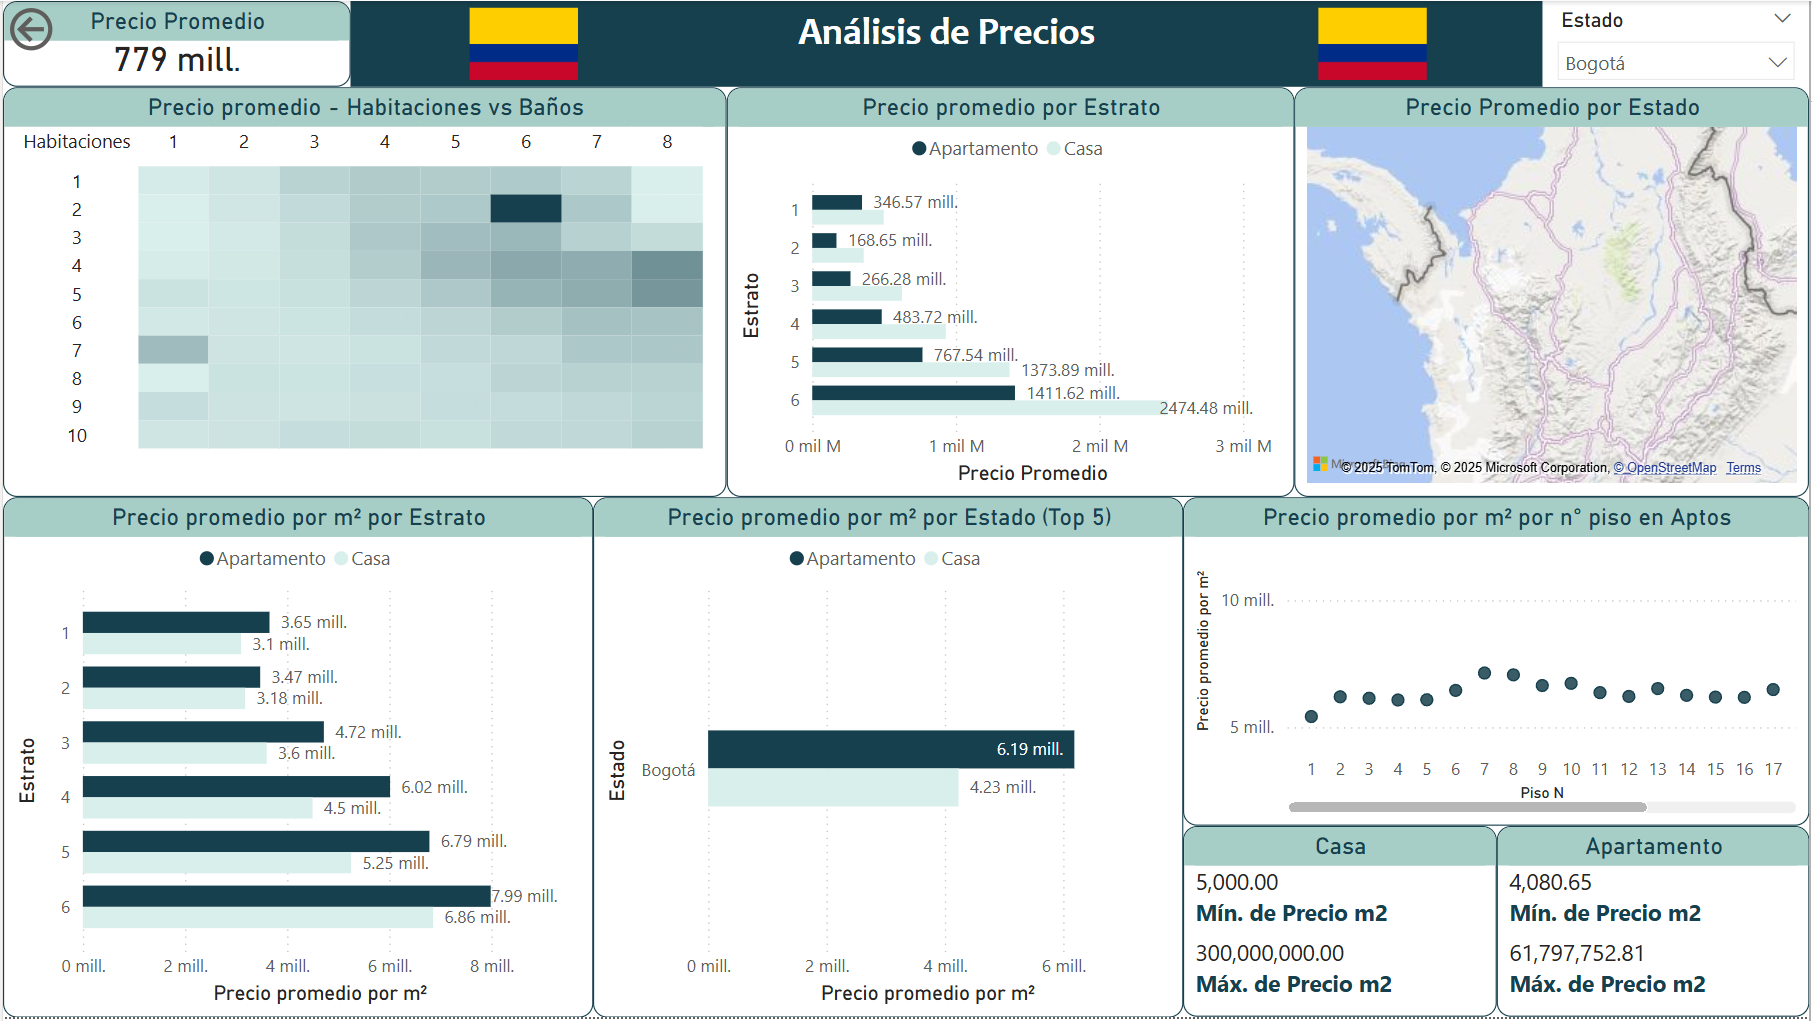

The dashboard page shown, as its layout file describes it:
{"tool":"powerbi","page":{"name":"Análisis de Precios","canvas":[1280,720],"ordinal":1},"visuals":[{"type":"slicer","fields":{"Values":["Props.Estado"]},"box":[1091.5,0,188.7,61.1],"z":0},{"type":"card","title":"Precio Promedio","fields":{"Values":["Avg(Props.Precio)"]},"box":[0,0,246.3,61.1],"z":1000},{"type":"textbox","box":[246.3,0,845.2,61.1],"z":2000},{"type":"clusteredBarChart","title":"Precio promedio por Estrato","fields":{"Category":["Props.Estrato"],"Y":["Avg(Props.Precio)"],"Series":["Props.Tipo Propiedad"]},"box":[513,61.1,402.2,290.6],"z":3000},{"type":"image","box":[901.9,0,137.3,61.1],"z":4000},{"type":"image","box":[300.3,0,137.3,61.1],"z":5000},{"type":"filledMap","title":"Precio Promedio por Estado","fields":{"Category":["Props.Estado"]},"box":[915.2,61.1,365,290.6],"z":6000},{"type":"actionButton","box":[0,0,100,40],"z":7000},{"type":"multiRowCard","title":"Casa","fields":{"Values":["Min(Props.Precio m2)","Max(Props.Precio m2)1"]},"box":[836.3,584.7,222.4,135.5],"z":8000},{"type":"clusteredBarChart","title":"Precio promedio por m² por Estrato","fields":{"Category":["Props.Estrato"],"Y":["Avg(Props.Precio m2)"],"Series":["Props.Tipo Propiedad"]},"box":[0,351.7,418.2,368.6],"z":9000},{"type":"clusteredBarChart","title":"Precio promedio por m² por Estado (Top 5)","fields":{"Category":["Props.Estado"],"Y":["Avg(Props.Precio m2)"],"Series":["Props.Tipo Propiedad"]},"box":[418.2,351.7,418.2,368.6],"z":10000},{"type":"scatterChart","title":"Precio promedio por m² por n° piso en Aptos","fields":{"Series":["Props.Tipo Propiedad"],"Y":["Avg(Props.Precio m2)"],"X":["Props.Piso N"]},"box":[836.3,351.7,443.9,233],"z":11000},{"type":"multiRowCard","title":"Apartamento","fields":{"Values":["Min(Props.Precio m2)","Max(Props.Precio m2)1"]},"box":[1058.7,584.7,221.5,135.5],"z":12000},{"type":"pivotTable","title":"Precio promedio - Habitaciones vs Baños","fields":{"Columns":["Props.Banos"],"Rows":["Props.Habitaciones"],"Values":["Avg(Props.Precio)"]},"box":[0,61.1,513,290.6],"z":13000}]}

Visuals, with their boxes in screenshot pixels (x1, y1, x2, y2), scaled from the page's 1280x720 canvas onto the 1812x1021 screenshot:
slicer - Props.Estado: detection(1545, 0, 1811, 87)
"Precio Promedio" card: detection(0, 0, 349, 87)
textbox: detection(349, 0, 1545, 87)
"Precio promedio por Estrato" clusteredBarChart: detection(726, 87, 1296, 499)
image: detection(1277, 0, 1471, 87)
image: detection(425, 0, 619, 87)
"Precio Promedio por Estado" filledMap: detection(1296, 87, 1811, 499)
actionButton: detection(0, 0, 142, 57)
"Casa" multiRowCard: detection(1184, 829, 1499, 1020)
"Precio promedio por m² por Estrato" clusteredBarChart: detection(0, 499, 592, 1020)
"Precio promedio por m² por Estado (Top 5)" clusteredBarChart: detection(592, 499, 1184, 1020)
"Precio promedio por m² por n° piso en Aptos" scatterChart: detection(1184, 499, 1811, 829)
"Apartamento" multiRowCard: detection(1499, 829, 1811, 1020)
"Precio promedio - Habitaciones vs Baños" pivotTable: detection(0, 87, 726, 499)
